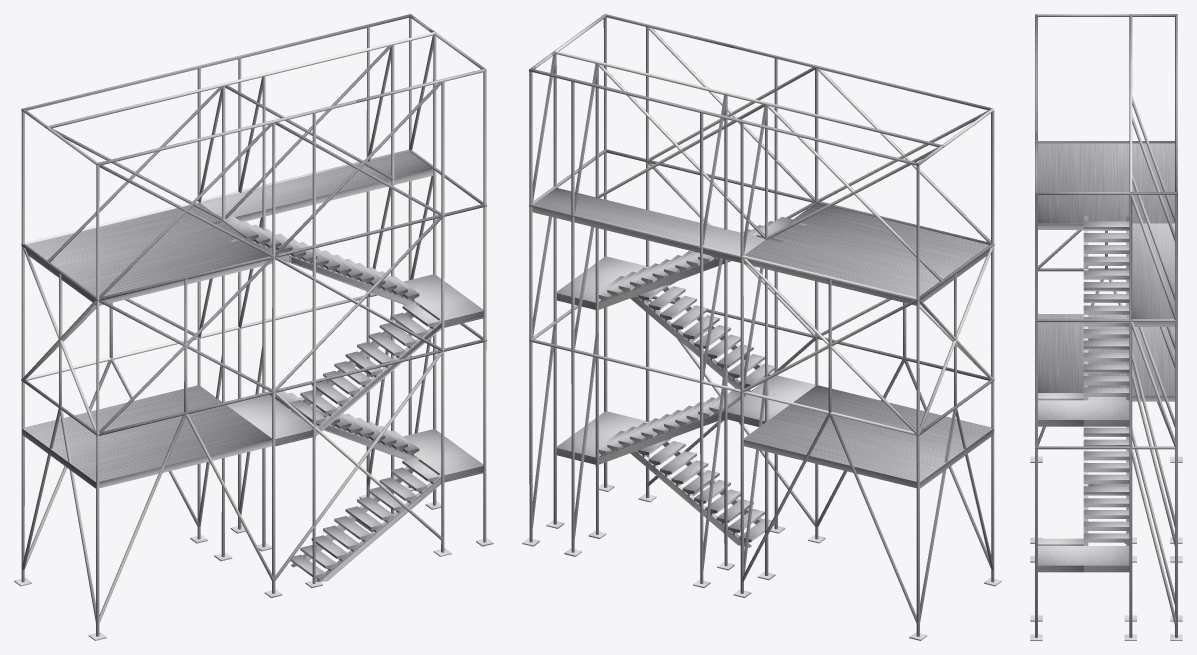
File: stairs.glb
3 renders of one model, left to right at view 1: azimuth 30°, elevation 25°; view 2: azimuth 150°, elevation 25°; view 3: azimuth 270°, elevation 25°, orthographic. The views are drawn at different scales.
Parts seen in each view (by area): view 1: Object_152_Material_2_0, Object_150_Material_2_0, Object_151_Material_2_0, Object_117_Material_2_0, Object_118_Material_2_0, Object_3_Material_2_0, Object_32_Material_2_0, Object_34_Material_2_0, Object_74_Material_2_0, Object_129_Material_2_0, Object_126_Material_2_0, Object_120_Material_2_0 (+35 smaller); view 2: Object_152_Material_2_0, Object_150_Material_2_0, Object_151_Material_2_0, Object_117_Material_2_0, Object_118_Material_2_0, Object_34_Material_2_0, Object_100_Material_2_0, Object_128_Material_2_0, Object_101_Material_2_0, Object_102_Material_2_0, Object_74_Material_2_0, Object_129_Material_2_0 (+35 smaller); view 3: Object_150_Material_2_0, Object_152_Material_2_0, Object_151_Material_2_0, Object_32_Material_2_0, Object_3_Material_2_0, Object_125_Material_2_0, Object_126_Material_2_0, Object_127_Material_2_0, Object_117_Material_2_0, Object_74_Material_2_0, Object_118_Material_2_0, Object_90_Material_2_0 (+40 smaller).
Part boxes in pixels (x1,y1,x2,y2): Object_152_Material_2_0: (22, 385, 272, 488); Object_150_Material_2_0: (24, 203, 272, 305); Object_151_Material_2_0: (200, 151, 433, 221); Object_117_Material_2_0: (21, 149, 486, 300); Object_118_Material_2_0: (21, 293, 486, 435); Object_3_Material_2_0: (403, 429, 483, 482); Object_32_Material_2_0: (403, 274, 483, 327); Object_34_Material_2_0: (227, 394, 312, 446); Object_74_Material_2_0: (21, 14, 434, 128); Object_129_Material_2_0: (96, 164, 99, 636); Object_126_Material_2_0: (483, 70, 486, 542); Object_120_Material_2_0: (441, 81, 444, 552); Object_152_Material_2_0: (743, 385, 993, 488); Object_150_Material_2_0: (743, 202, 991, 305); Object_151_Material_2_0: (532, 188, 765, 262); Object_117_Material_2_0: (529, 149, 994, 300); Object_118_Material_2_0: (529, 296, 994, 435); Object_34_Material_2_0: (727, 375, 815, 426); Object_100_Material_2_0: (571, 81, 574, 552); Object_128_Material_2_0: (916, 165, 919, 636); Object_101_Material_2_0: (700, 112, 703, 583); Object_102_Material_2_0: (740, 122, 743, 593); Object_74_Material_2_0: (528, 51, 944, 165); Object_129_Material_2_0: (991, 110, 994, 582); Object_150_Material_2_0: (1038, 143, 1174, 229); Object_152_Material_2_0: (1038, 314, 1174, 401); Object_151_Material_2_0: (1132, 223, 1174, 326); Object_32_Material_2_0: (1038, 400, 1129, 426); Object_3_Material_2_0: (1038, 546, 1129, 572); Object_125_Material_2_0: (1129, 194, 1132, 637); Object_126_Material_2_0: (1035, 193, 1037, 637); Object_127_Material_2_0: (1175, 194, 1177, 637); Object_117_Material_2_0: (1035, 141, 1177, 322); Object_74_Material_2_0: (1129, 14, 1177, 194); Object_118_Material_2_0: (1035, 268, 1177, 449); Object_90_Material_2_0: (1131, 448, 1176, 626).
Bounding box in the file's own units: 30.88 × 35.12 × 10.88.
Materials: 1 (1 with a texture image).
